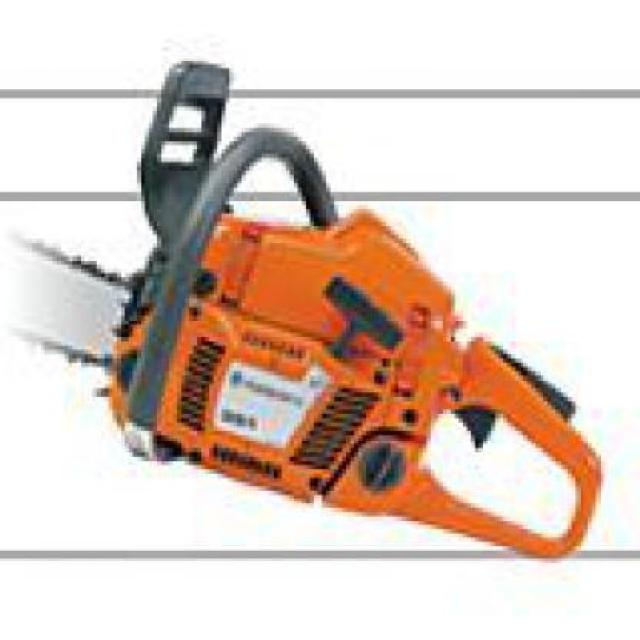Chainsaw: (0, 54, 611, 568)
